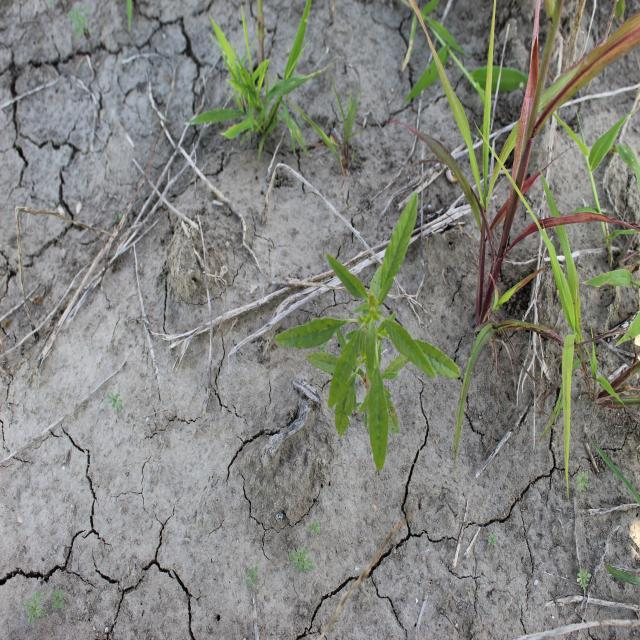Waterhemp: (272, 188, 462, 473)
